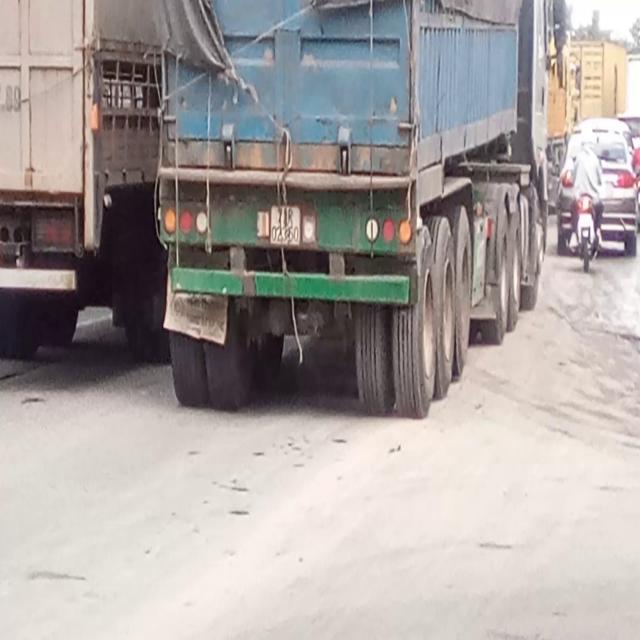bien_trang: (272, 202, 299, 244)
